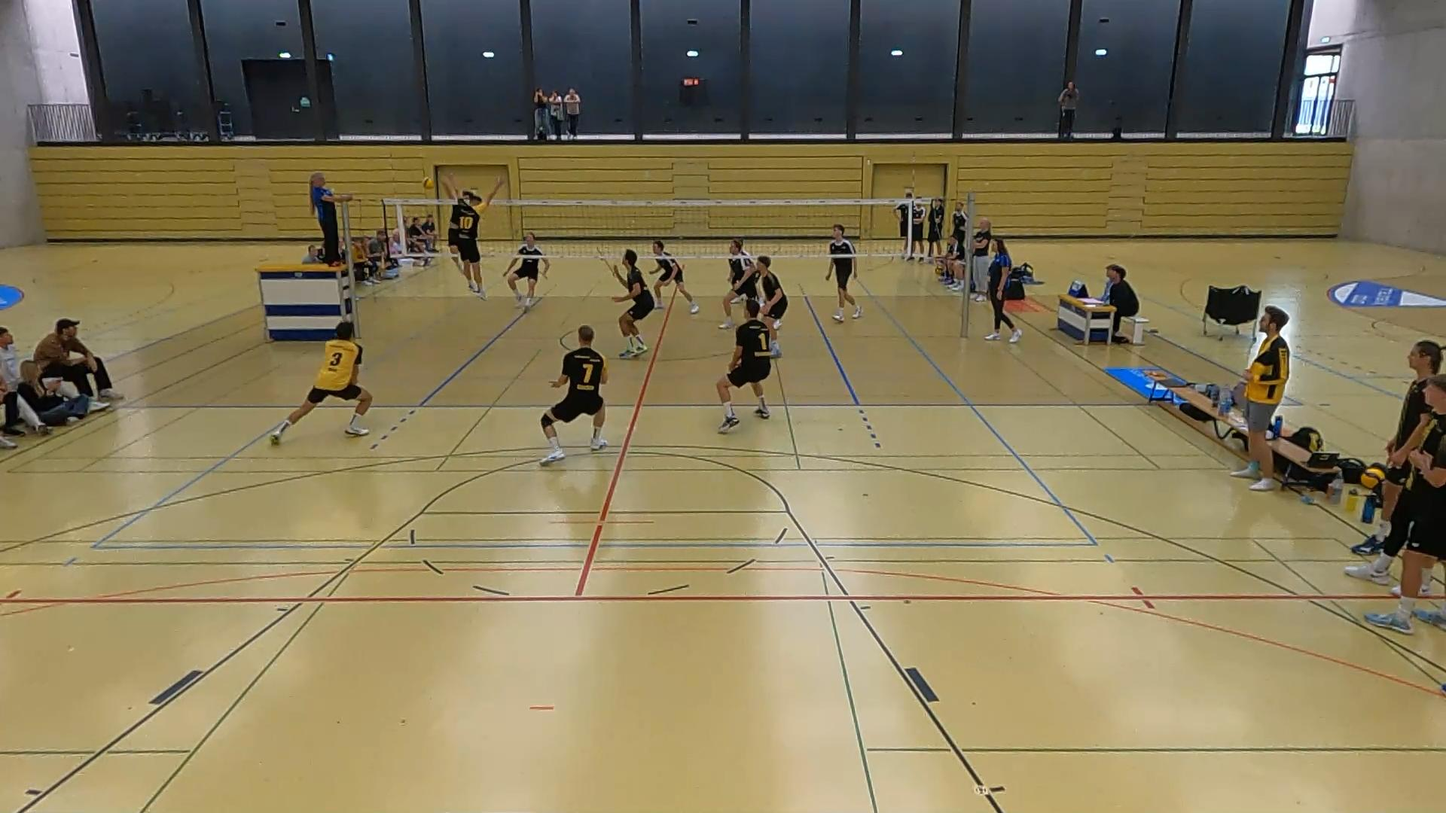Attack: (433, 173, 471, 286)
Block: (445, 184, 502, 301)
Player: (270, 321, 372, 444), (540, 325, 607, 465), (716, 299, 770, 433), (603, 250, 654, 358), (825, 224, 862, 322), (651, 241, 700, 313), (719, 239, 757, 329), (505, 231, 549, 308), (755, 257, 788, 357)
ball: (420, 173, 434, 190)
